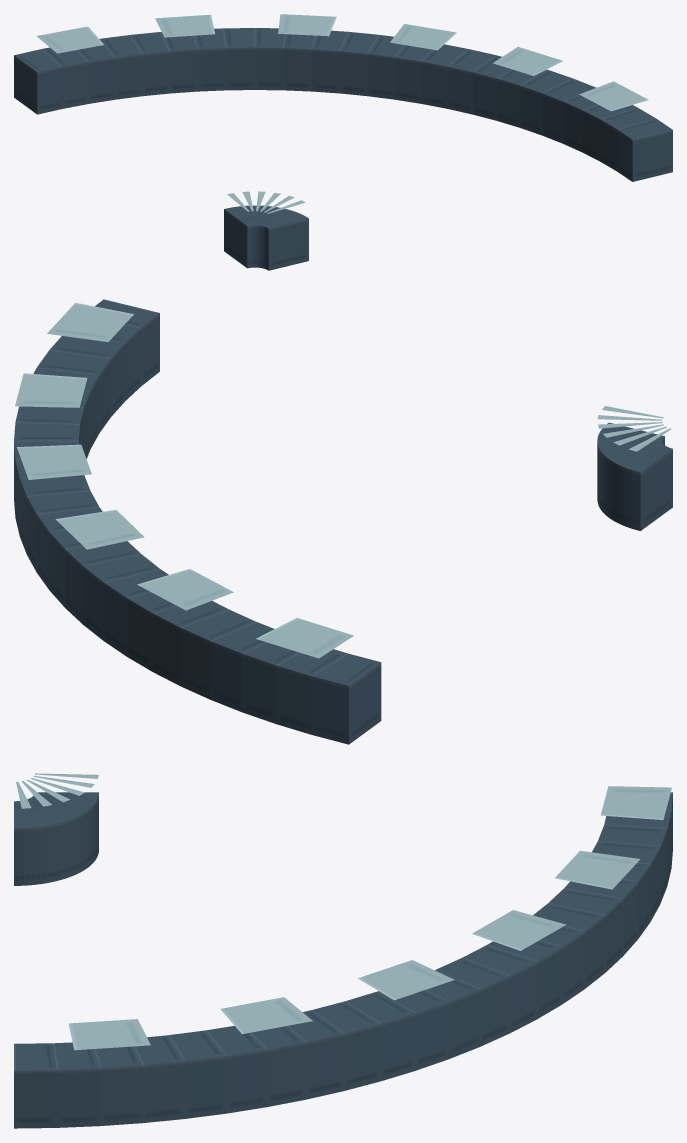
Rendered from sc_curve_left.obj.
3 renders of one model, top to bottom at view 1: azimuth 30°, elevation 25°; view 2: azimuth 150°, elevation 25°; view 3: azimuth 270°, elevation 25°, orthographic. The views are drawn at different scales.
Bounding box in the file's own units: 19.38 × 2.5 × 19.38.
1 material, 1 textured.
